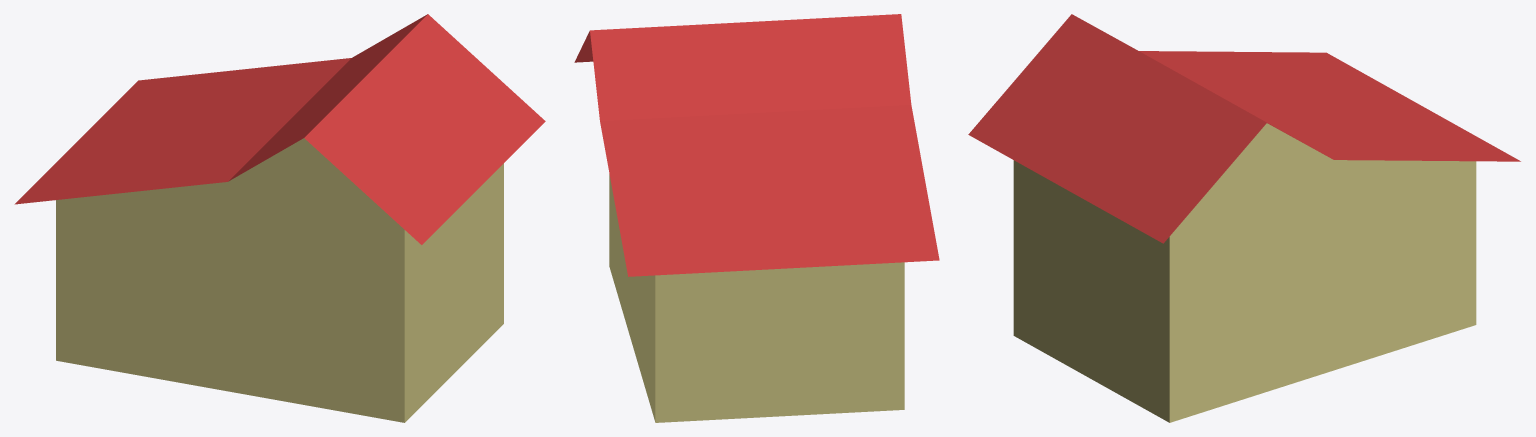
3 views of the same model, side by side, from view 1: azimuth 30°, elevation 25°; view 2: azimuth 150°, elevation 25°; view 3: azimuth 270°, elevation 25° (orthographic). The views are drawn at different scales.
Size of the model in its own units: 16.34 by 17.1 by 9.75.
